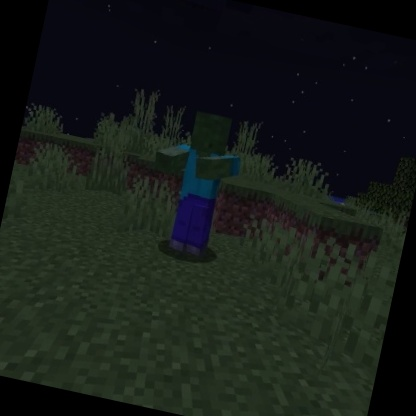zombie: (132, 99, 255, 268)
